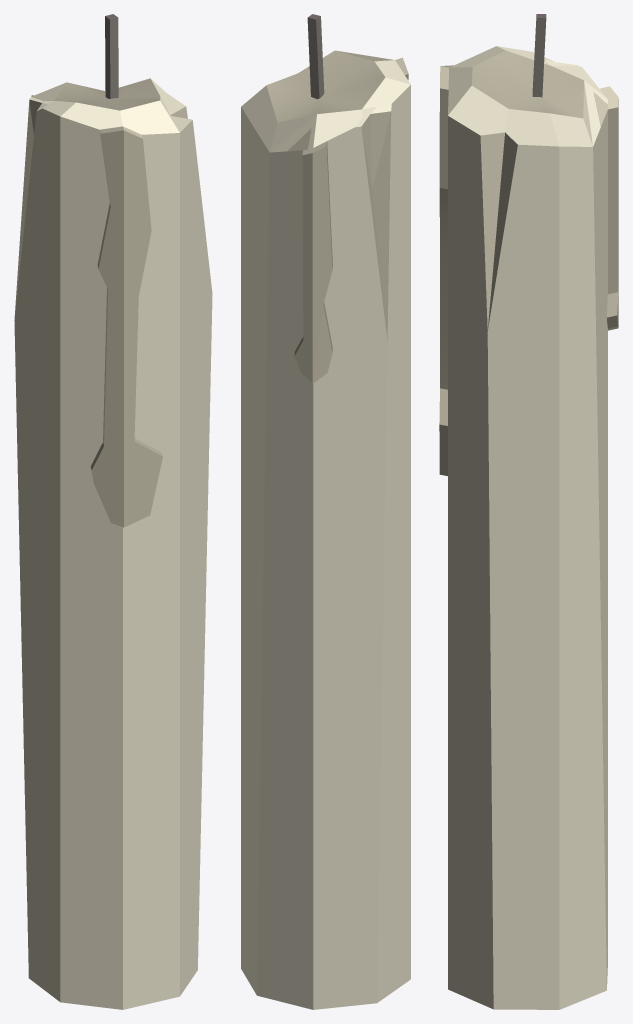
Rendered from Candle_02.glb.
3 renders of one model, left to right at view 1: azimuth 30°, elevation 25°; view 2: azimuth 150°, elevation 25°; view 3: azimuth 270°, elevation 25°, orthographic.
Parts seen in each view (by area): view 1: Candle_02; view 2: Candle_02; view 3: Candle_02.
Boxes of the visible parts, box(x1,y1,x2,y2) form: Candle_02: box(14, 14, 212, 1009); Candle_02: box(241, 14, 410, 1009); Candle_02: box(439, 14, 618, 1009).
Size of what is drawn, in the model's own units: 0.0501 by 0.2862 by 0.0483.
1 material, 1 textured.
